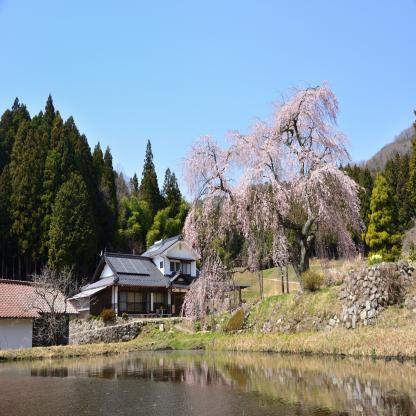ShidareZakura: (174, 79, 367, 329)
